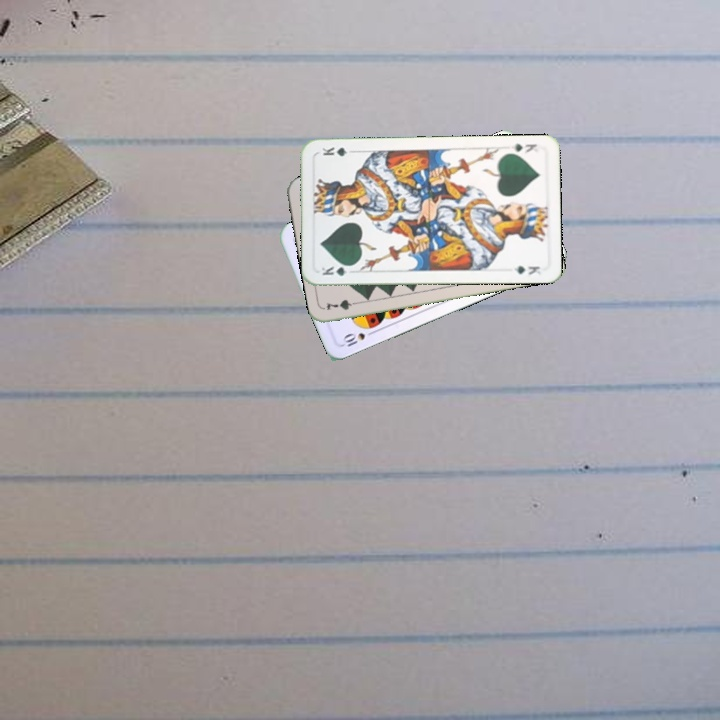G7: (322, 295, 363, 313)
GK: (317, 261, 357, 278), (507, 140, 540, 156)
S10: (339, 327, 378, 350)
